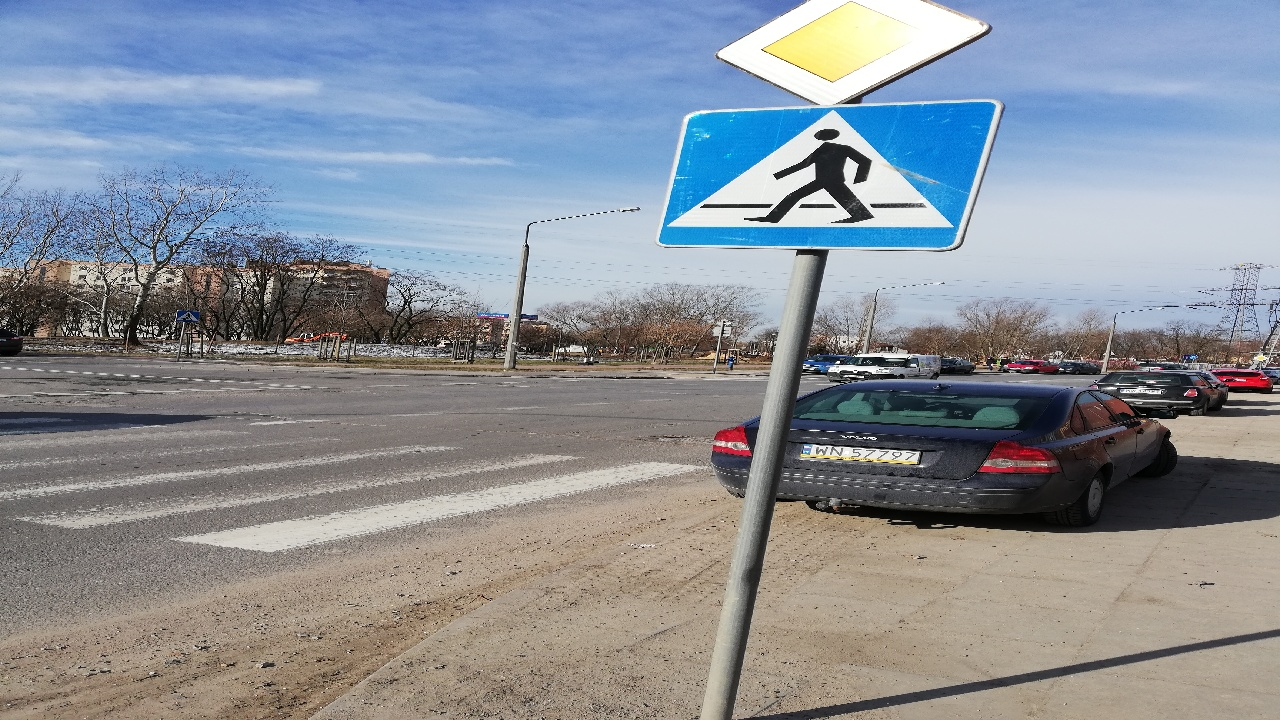D1: (692, 1, 1018, 102)
D6: (654, 94, 1010, 249)
